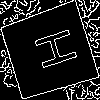H: (24, 26, 78, 75)
